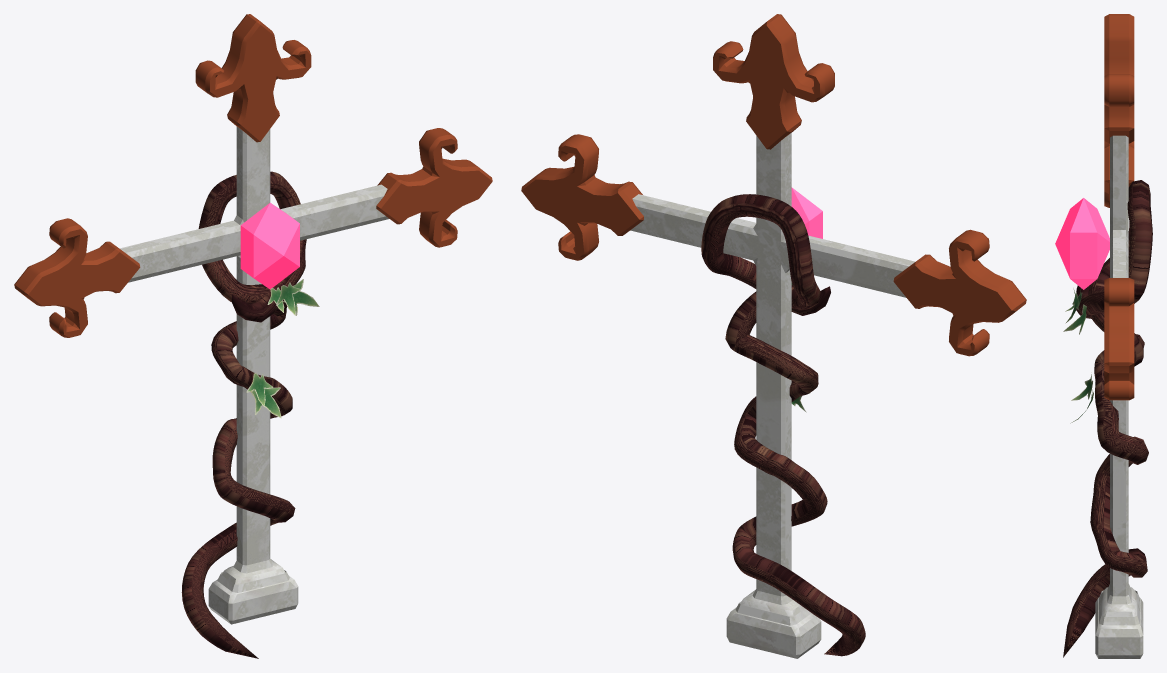
The model's file is SM_Cross.fbx.
3 renders of one model, left to right at view 1: azimuth 30°, elevation 25°; view 2: azimuth 150°, elevation 25°; view 3: azimuth 270°, elevation 25°, orthographic. The views are drawn at different scales.
Visible parts, largest first — view 1: SM_Cross; view 2: SM_Cross; view 3: SM_Cross.
Boxes of the visible parts, <box> form: SM_Cross: <box>14,14,492,658</box>; SM_Cross: <box>521,14,1026,658</box>; SM_Cross: <box>1055,14,1152,658</box>.
Size of the model in its own units: 127 by 21.75 by 161.
